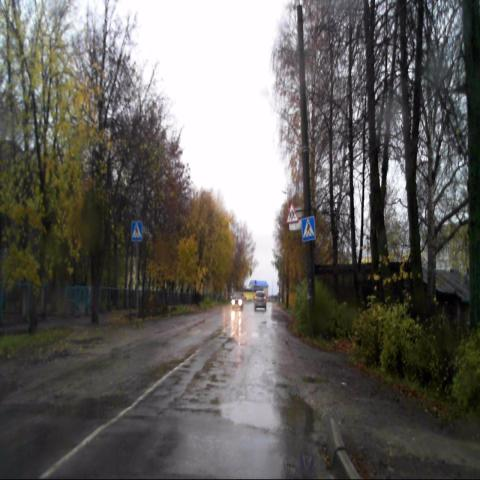1_23: (285, 200, 299, 225)
5_19_1: (301, 215, 316, 242), (130, 220, 142, 240)
